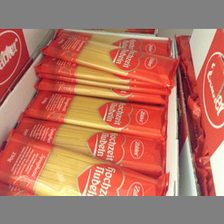pasta: (1, 130, 164, 195), (12, 114, 165, 174), (42, 33, 176, 87), (25, 89, 167, 135)
